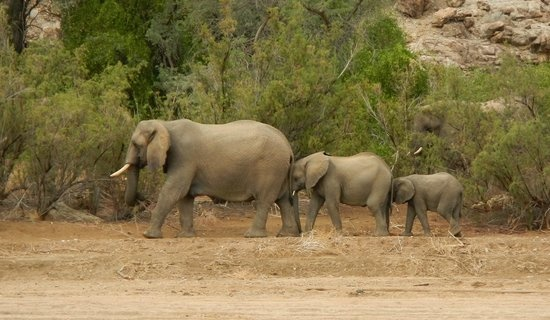elephant: (205, 177, 401, 293), (340, 194, 448, 282), (425, 206, 506, 268)
